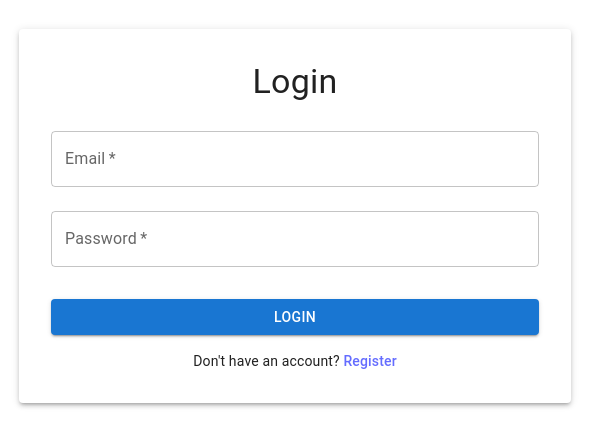
Login Component › validates email format
// Fill in invalid email
Type "invalid-email" into the field labelled "Email *" at (295, 159), box [51,131,539,187]
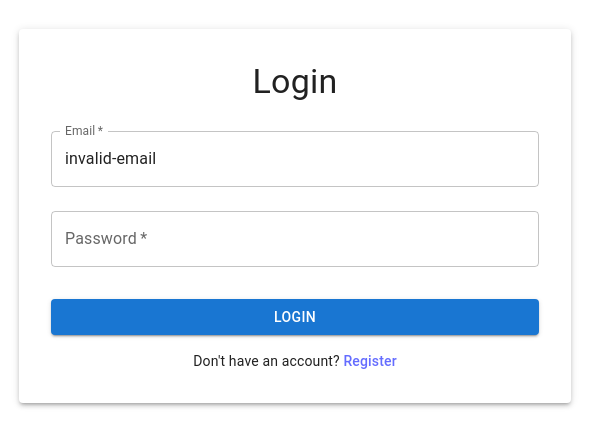
Type "password123" into the password field labelled "Password *" at (295, 239), box [51,211,539,267]
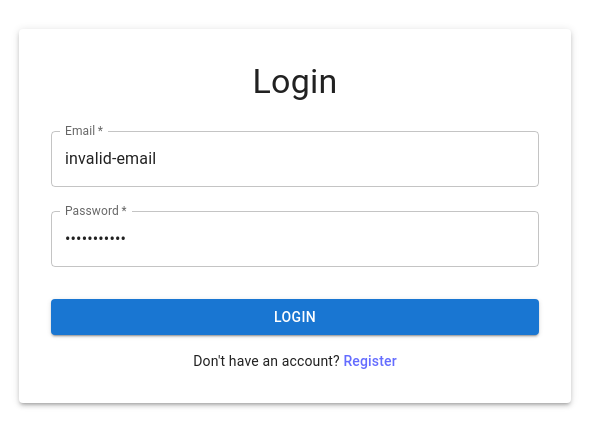
// Submit form
Click the button "Login" at (295, 317), box [51,299,539,335]
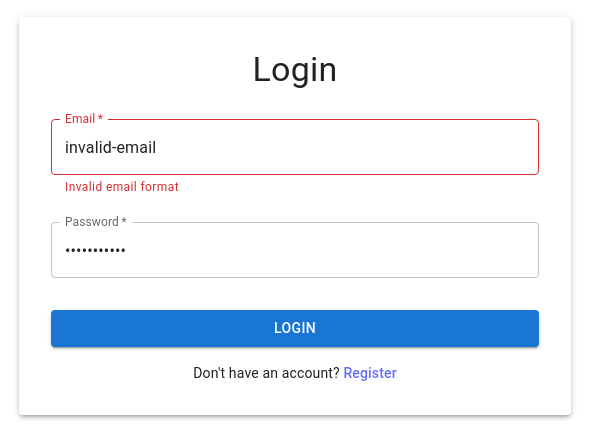
expect the text "Invalid email format" is shown: met, box [65,180,179,194]
